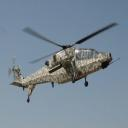helicopter: (8, 21, 125, 105)
